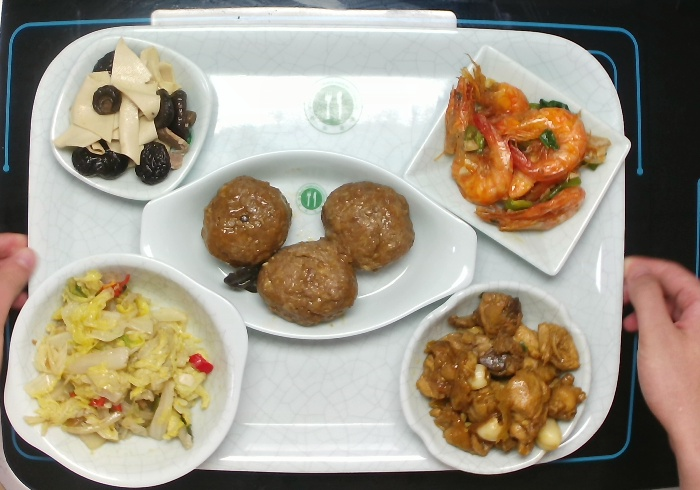JYsf-Ao_Yuan_Wan: (400, 279, 596, 475)
JYsf-Shuang_Er_Wan: (4, 249, 251, 490)
JYsf-Si_Fang_Die: (48, 32, 219, 202)
JYsf-Yu_Pan: (131, 147, 483, 345)
WCQzf-Ru_Ci_Si_Fang_Die: (407, 42, 634, 278)
